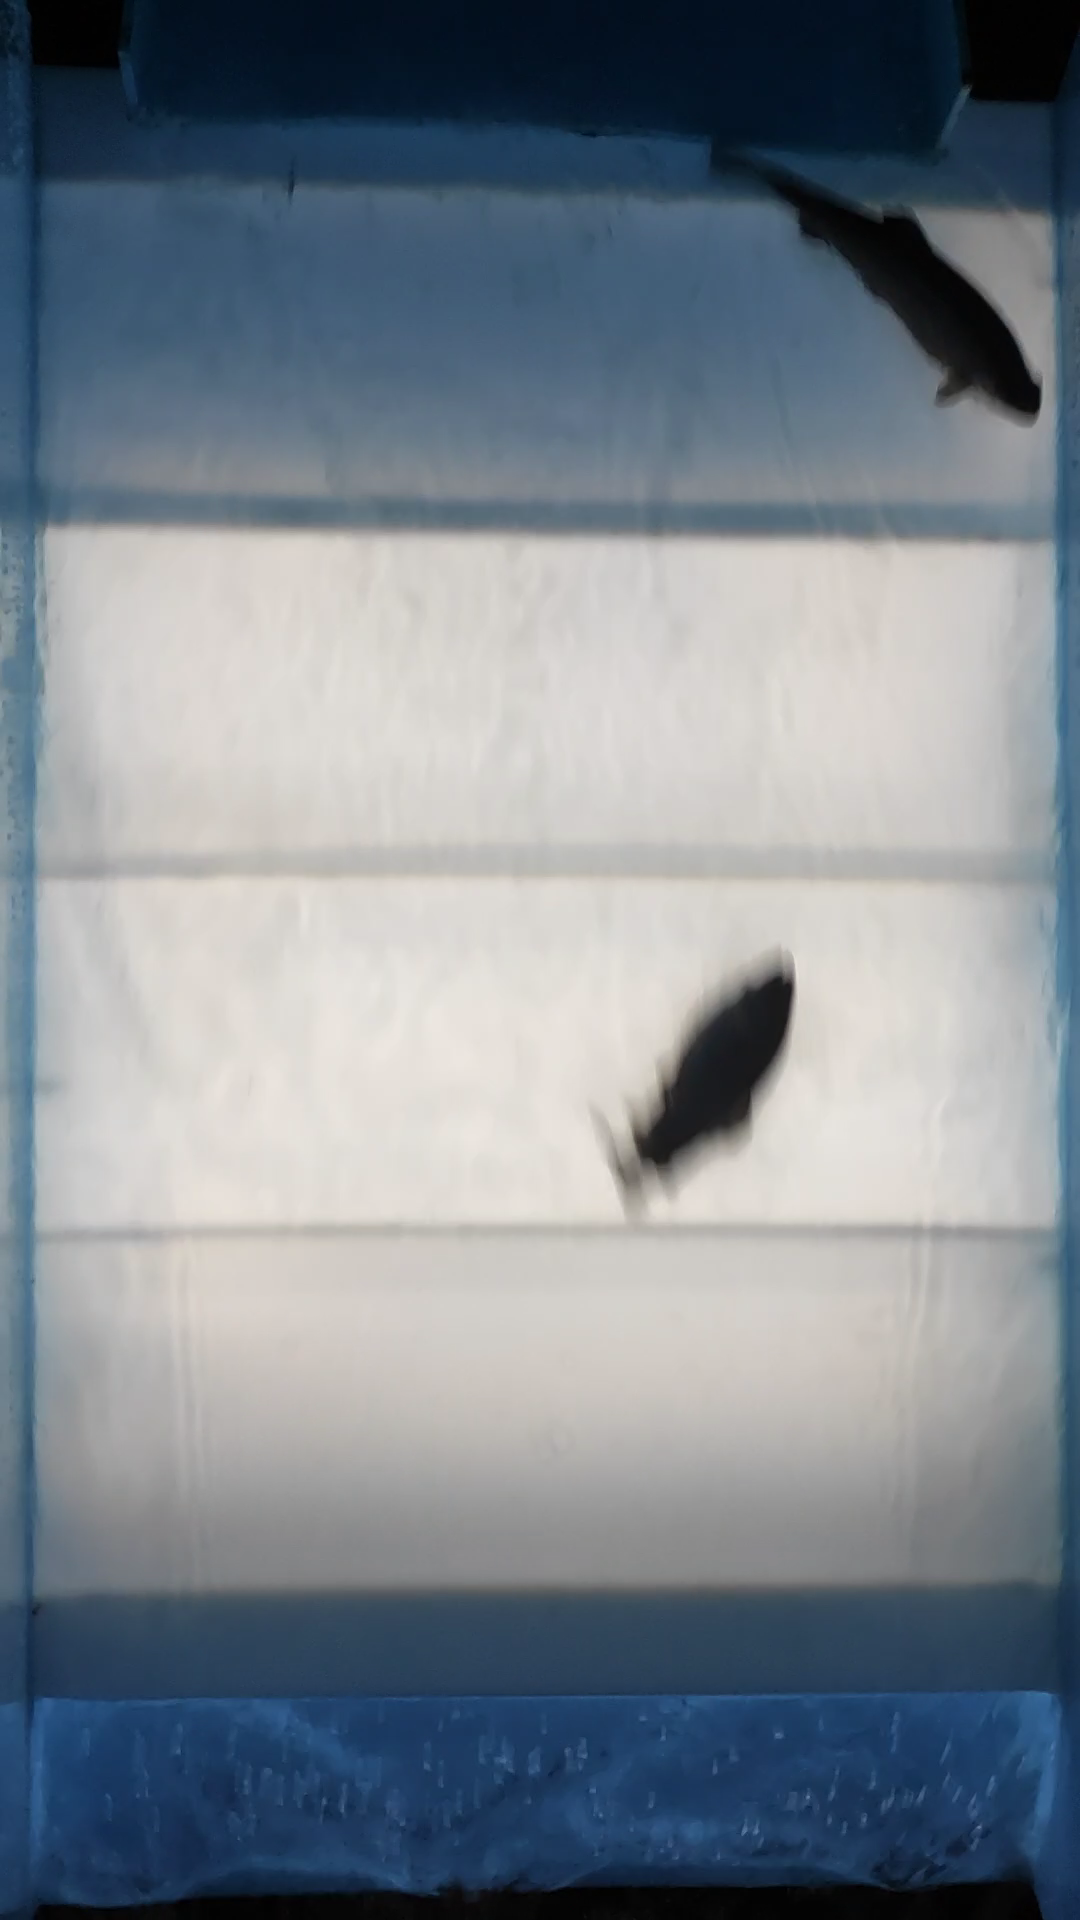fish: (704, 115, 1051, 430), (595, 962, 798, 1218)
